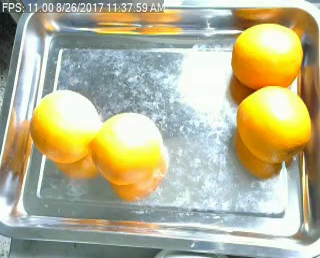Orange: (236, 84, 311, 163), (29, 88, 99, 163), (92, 112, 163, 184), (231, 21, 304, 89)
